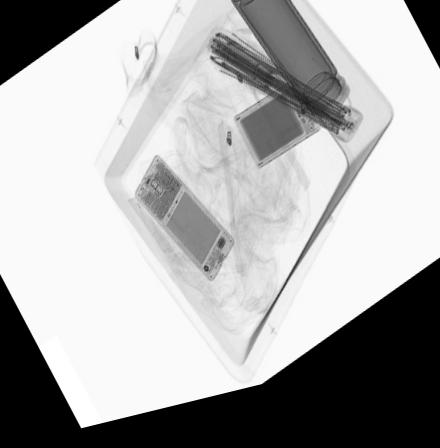Powerbank: (230, 88, 325, 182)
